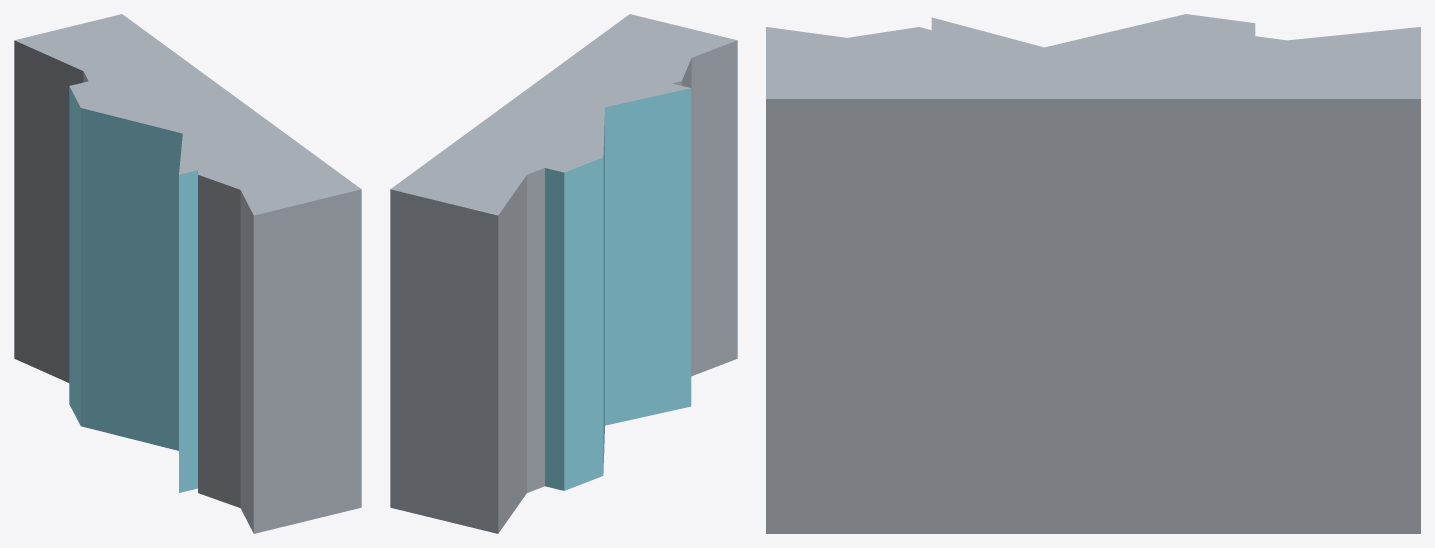
File: Grey_Waterfall_01.obj
3 views of the same model, side by side, from view 1: azimuth 30°, elevation 25°; view 2: azimuth 150°, elevation 25°; view 3: azimuth 270°, elevation 25° (orthographic). The views are drawn at different scales.
Visible parts, largest first — view 1: Mesh1_Grey_Waterfall_Model.001; view 2: Mesh1_Grey_Waterfall_Model.001; view 3: Mesh1_Grey_Waterfall_Model.001.
Part boxes in pixels (x1,y1,x2,y2): Mesh1_Grey_Waterfall_Model.001: (14, 14, 361, 533); Mesh1_Grey_Waterfall_Model.001: (390, 14, 737, 533); Mesh1_Grey_Waterfall_Model.001: (766, 14, 1420, 533).
Bounding box in the file's own units: 0.92 × 2.2 × 3.
